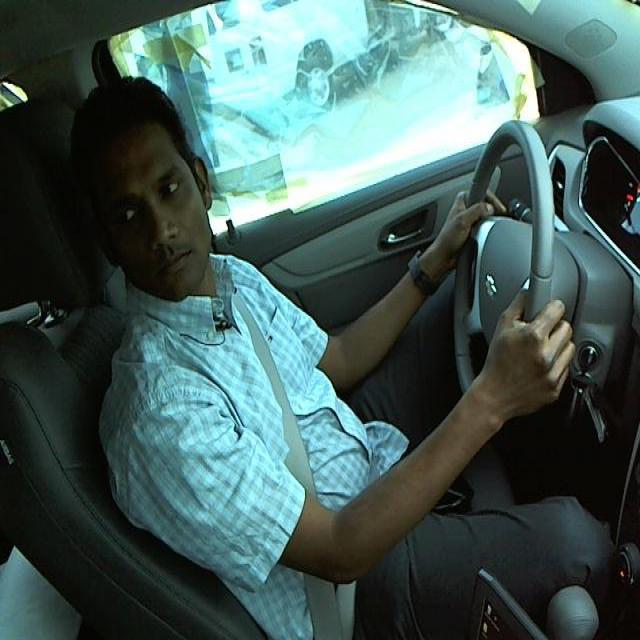seatbelt: (242, 297, 360, 639)
